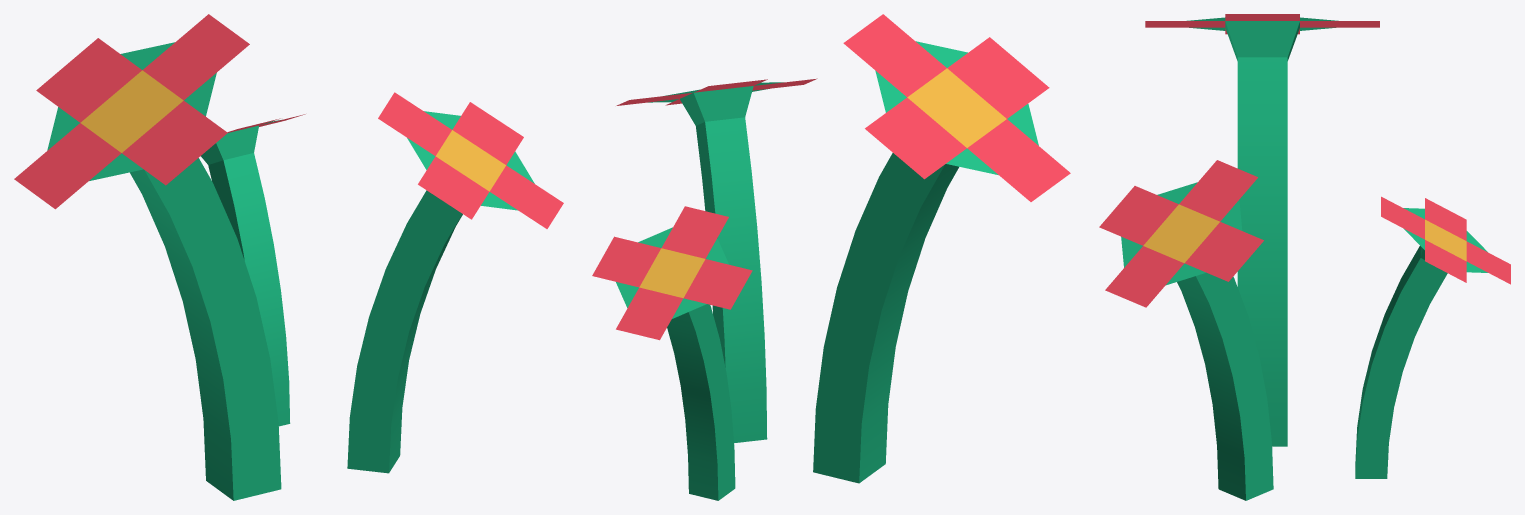
File: flowers.dae
3 renders of one model, left to right at view 1: azimuth 30°, elevation 25°; view 2: azimuth 150°, elevation 25°; view 3: azimuth 270°, elevation 25°, orthographic. The views are drawn at different scales.
Visible parts, largest first — view 1: flowers; view 2: flowers; view 3: flowers.
Boxes of the visible parts, bbox=[...] form: flowers: bbox=[14, 14, 563, 500]; flowers: bbox=[592, 14, 1070, 500]; flowers: bbox=[1099, 14, 1510, 500].
Size of the model in its own units: 0.4975 by 0.464 by 0.4168.
